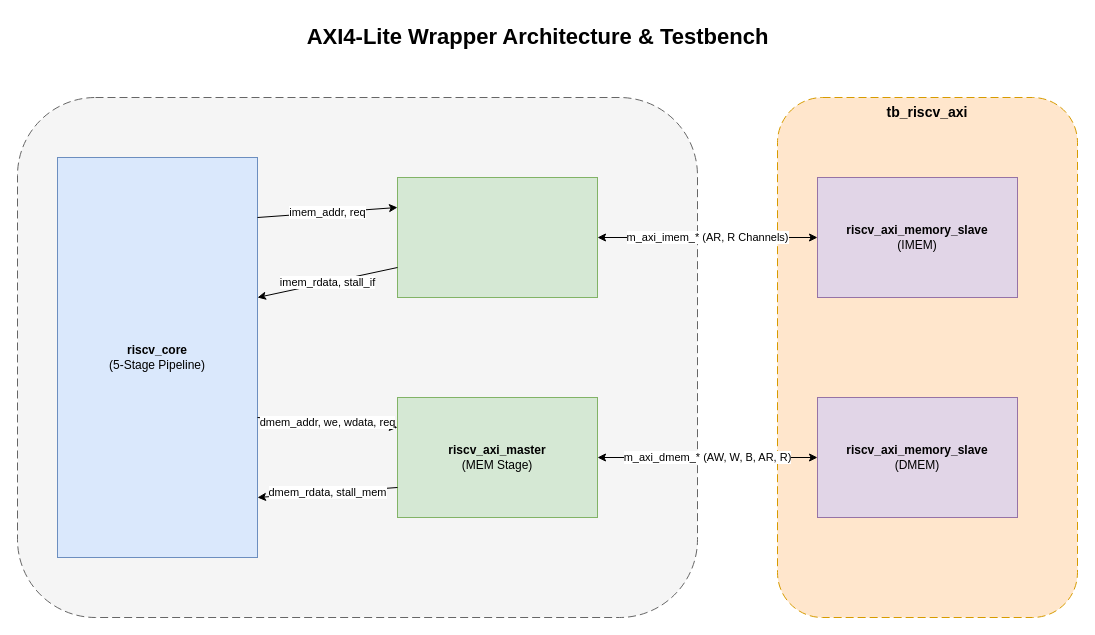
The diagram is 1095 pixels wide and 635 high, and some of its shapes have lost their labels. The box of each missing label's shape, as (x1, y1, x2, y2) in pixels:
riscv_axi_master (IF Stage): (396, 176, 598, 298)
riscv_axi_top: (16, 96, 698, 618)
